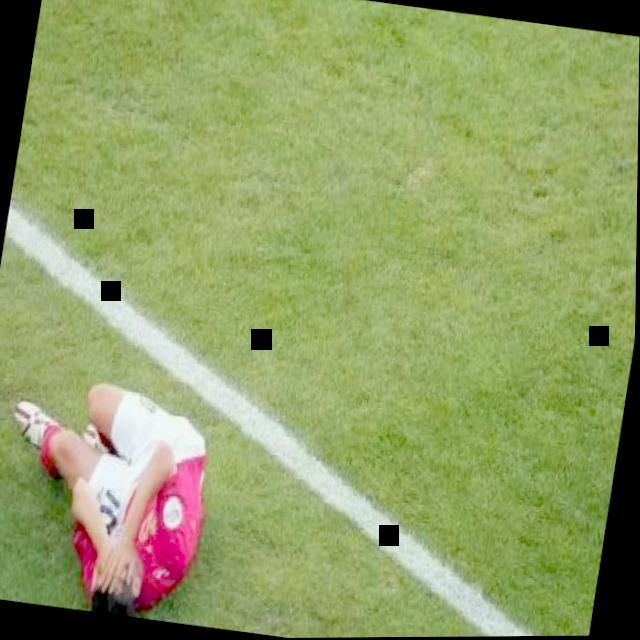Fall-Detected: (0, 348, 234, 626)
